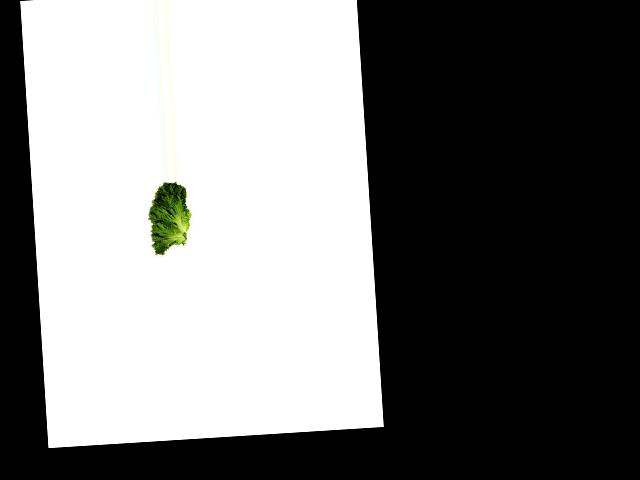lettuce: (141, 180, 196, 255)
